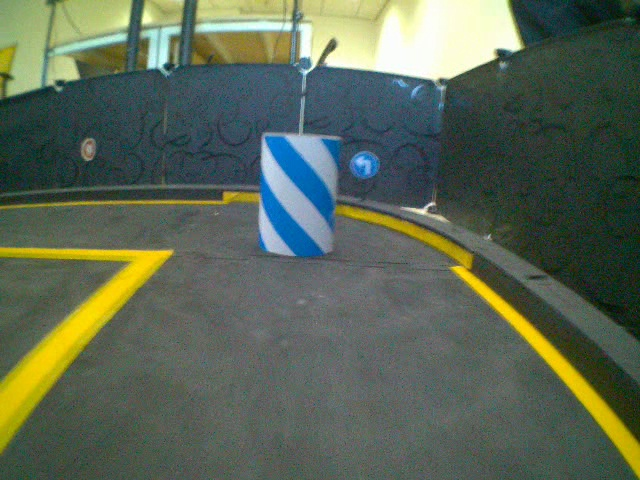bucket: (259, 130, 336, 255)
